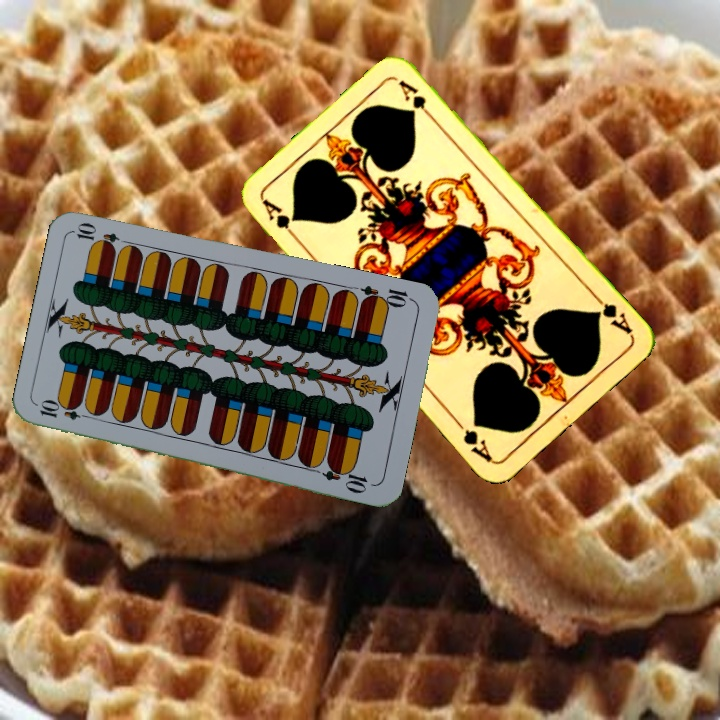E10: (357, 281, 416, 311), (36, 399, 95, 423)
GA: (258, 195, 302, 245), (589, 290, 635, 337)
